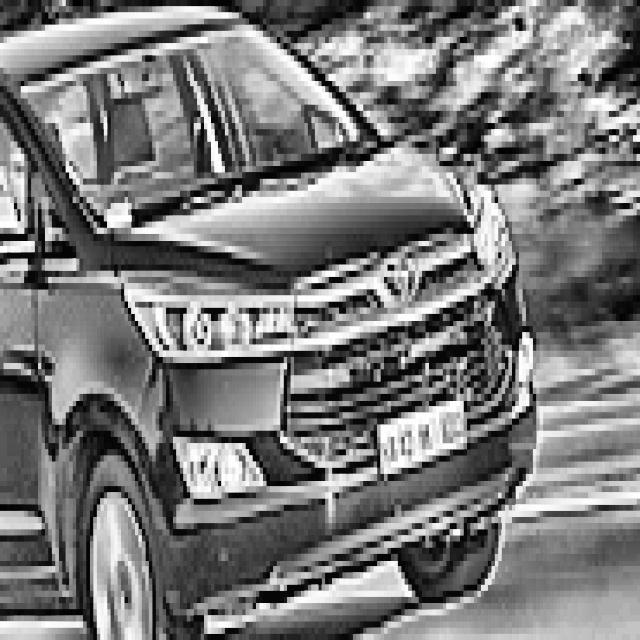light_vehicle: (0, 0, 540, 640)
